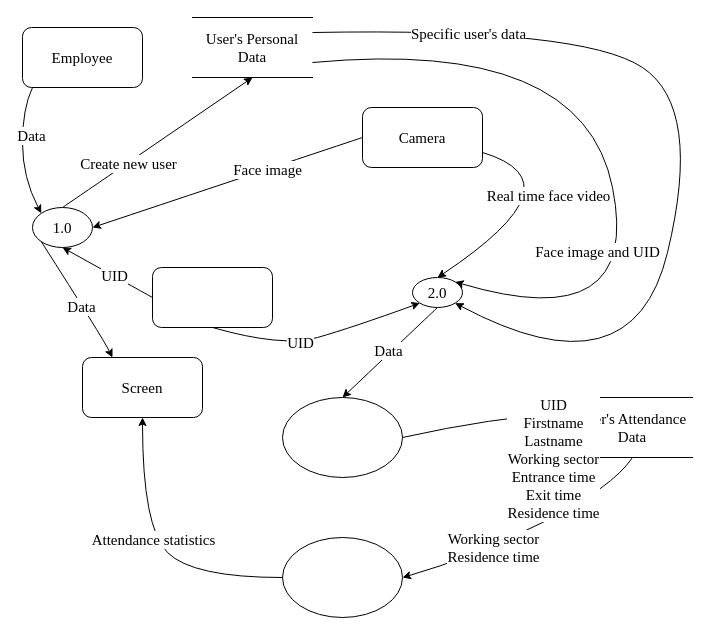
This 710x635 diagram has some shape labels left out. Each missing label, with the centre of its shape:
"3.1 Create user's attendance record" belongs at point 342,437.
"3.2 Calculate attendance statistics" belongs at point 342,577.
"RFID/NFC reader" belongs at point 212,297.
